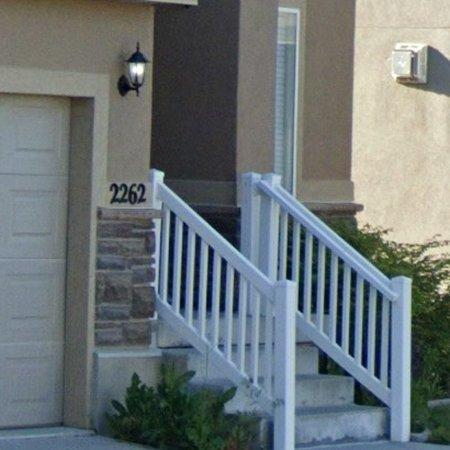stairs: (156, 190, 390, 450)
